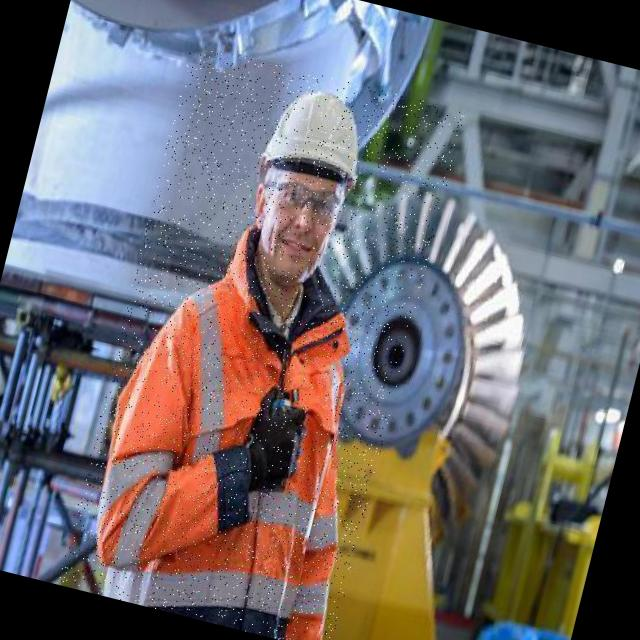hard_hat: (256, 75, 376, 194)
safety_vest: (72, 202, 415, 640)
vehicle: (56, 42, 465, 640)
